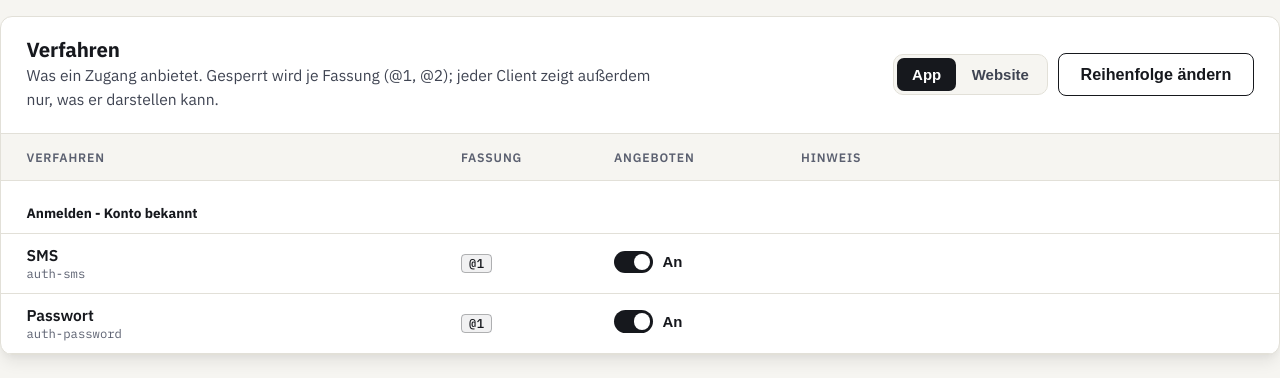
Test: AdminToolAvailabilityView › drops the draft on "Abbrechen", saving nothing
Click the button "Reihenfolge ändern" at x=1156, y=75, box left=1058, top=53, right=1254, bottom=96
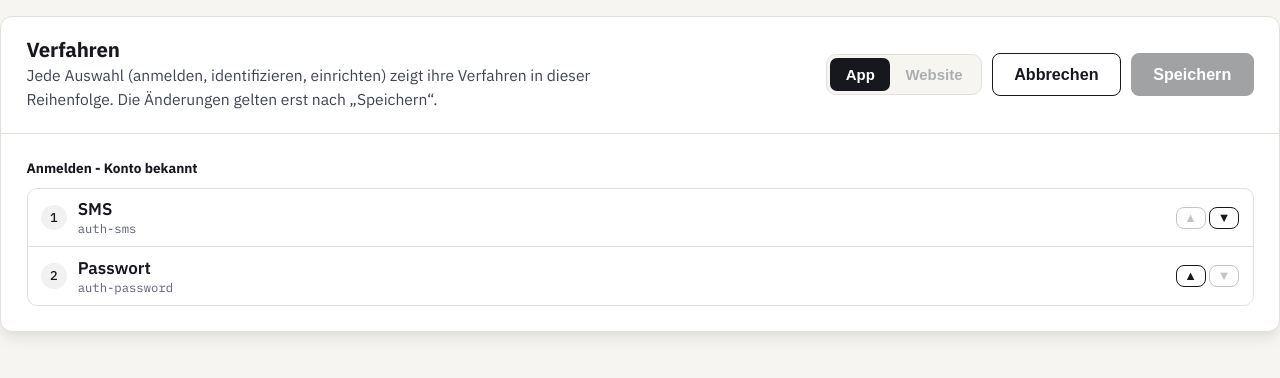
Click the button named "auth-sms nach unten" at x=1224, y=218, box left=1209, top=206, right=1239, bottom=229
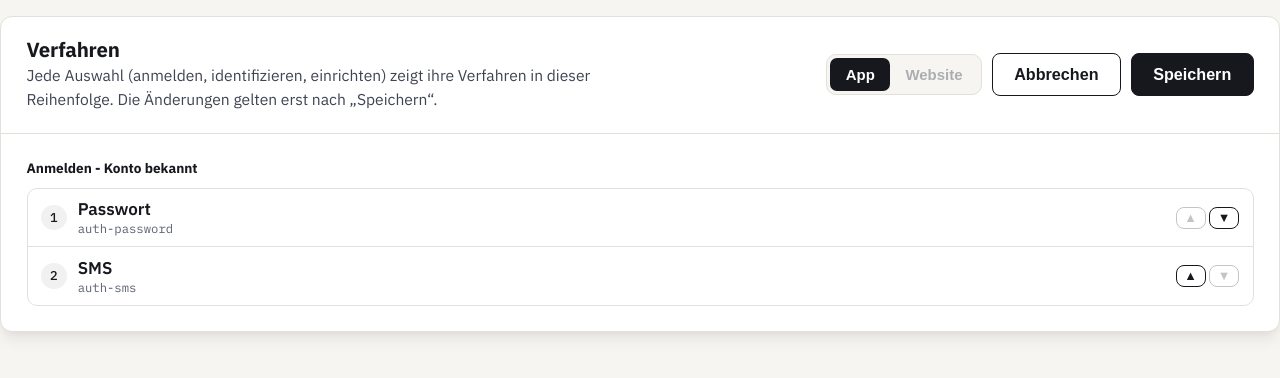
Click the button "Abbrechen" at x=1056, y=75, box left=992, top=53, right=1121, bottom=96
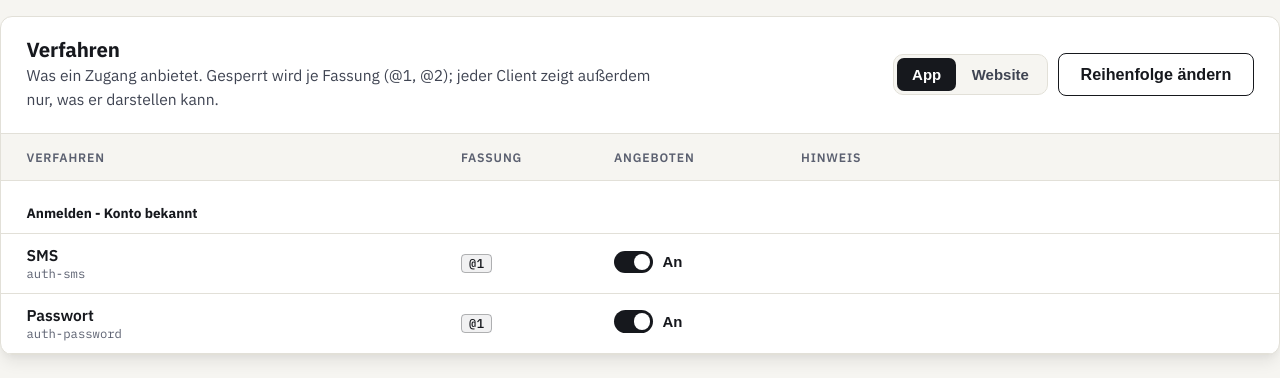
expect the button "Reihenfolge ändern" is shown: met, box left=1058, top=53, right=1254, bottom=96
